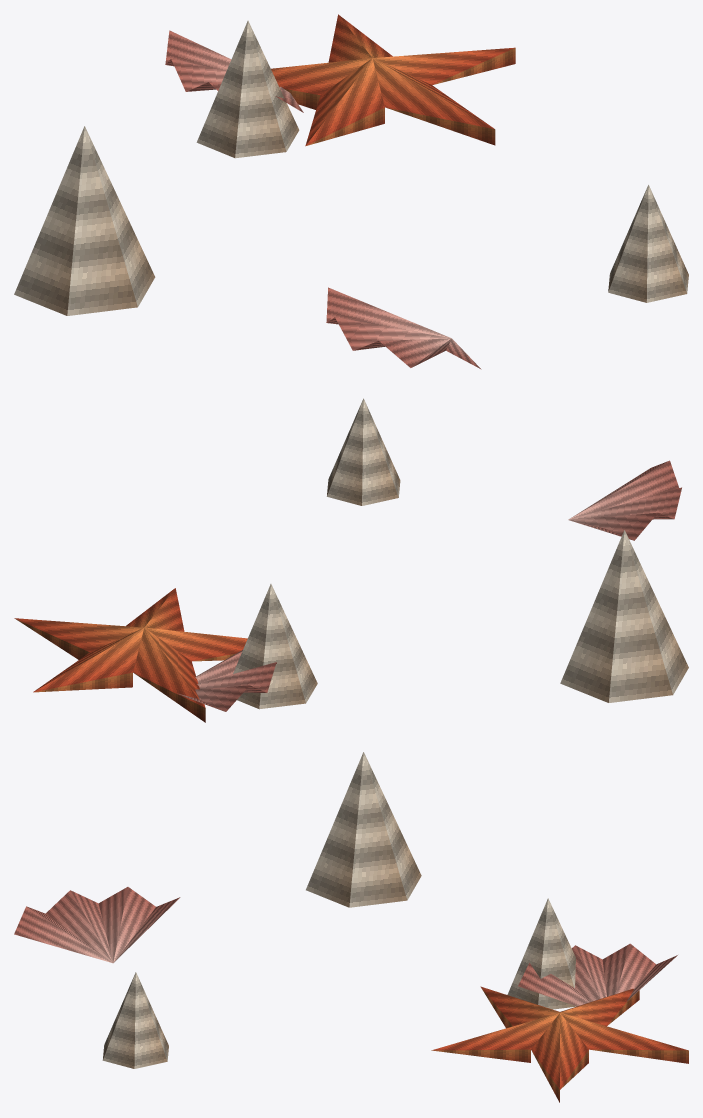
Rendered from shells.glb.
The picture shows the model from 3 angles, top to bottom: view 1: azimuth 30°, elevation 25°; view 2: azimuth 150°, elevation 25°; view 3: azimuth 270°, elevation 25°; orthographic projection. The views are drawn at different scales.
Visible parts, largest first — view 1: shells; view 2: shells; view 3: shells.
Part boxes in pixels (left/top/right/bottom): shells: left=14, top=14, right=688, bottom=369; shells: left=14, top=398, right=688, bottom=722; shells: left=14, top=752, right=688, bottom=1102.
Bounding box in the file's own units: 0.4709 × 0.1177 × 0.5475.
Materials: 1 (1 with a texture image).
